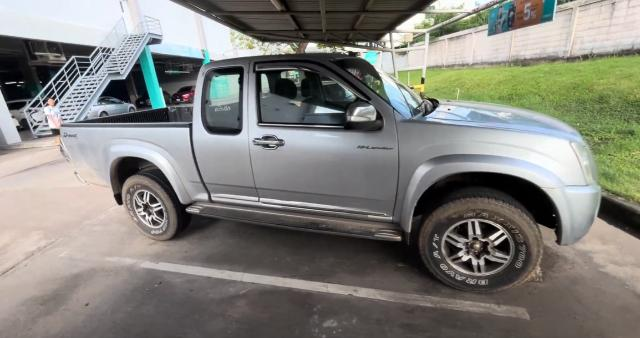pickup-truck: (58, 53, 601, 291)
